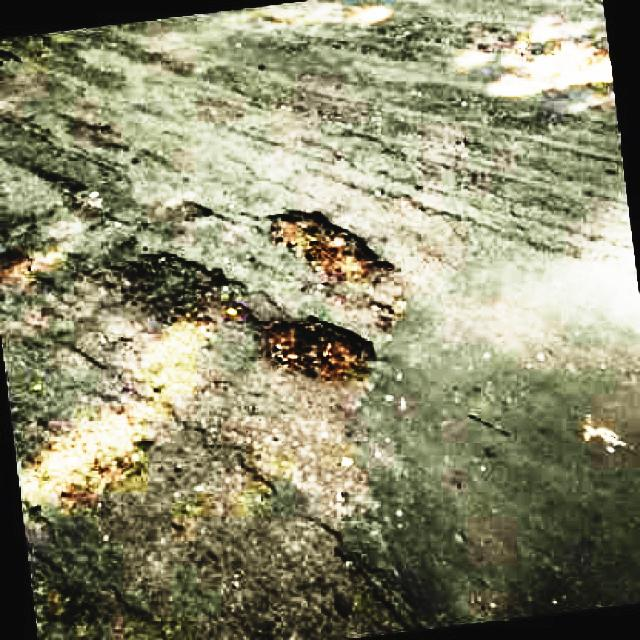pothole: (260, 206, 398, 297), (132, 248, 246, 326), (260, 315, 391, 380)
